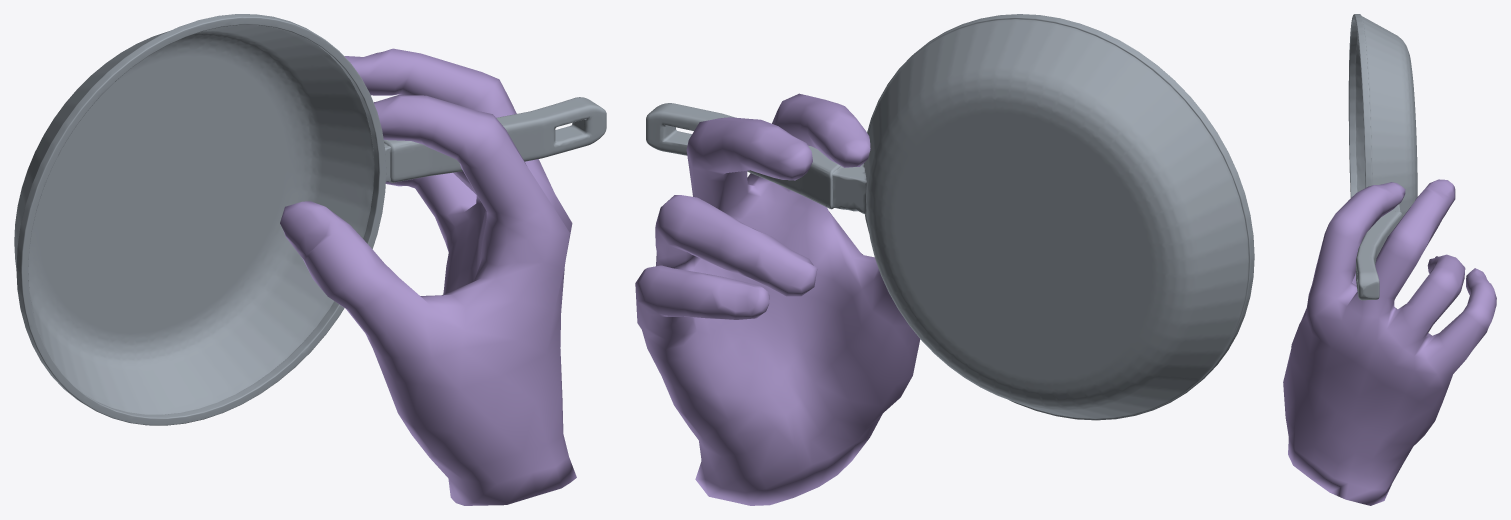
File: ours_1.glb
3 renders of one model, left to right at view 1: azimuth 30°, elevation 25°; view 2: azimuth 150°, elevation 25°; view 3: azimuth 270°, elevation 25°, orthographic. The views are drawn at different scales.
Size of the model in its own units: 0.236 by 0.207 by 0.1099.
